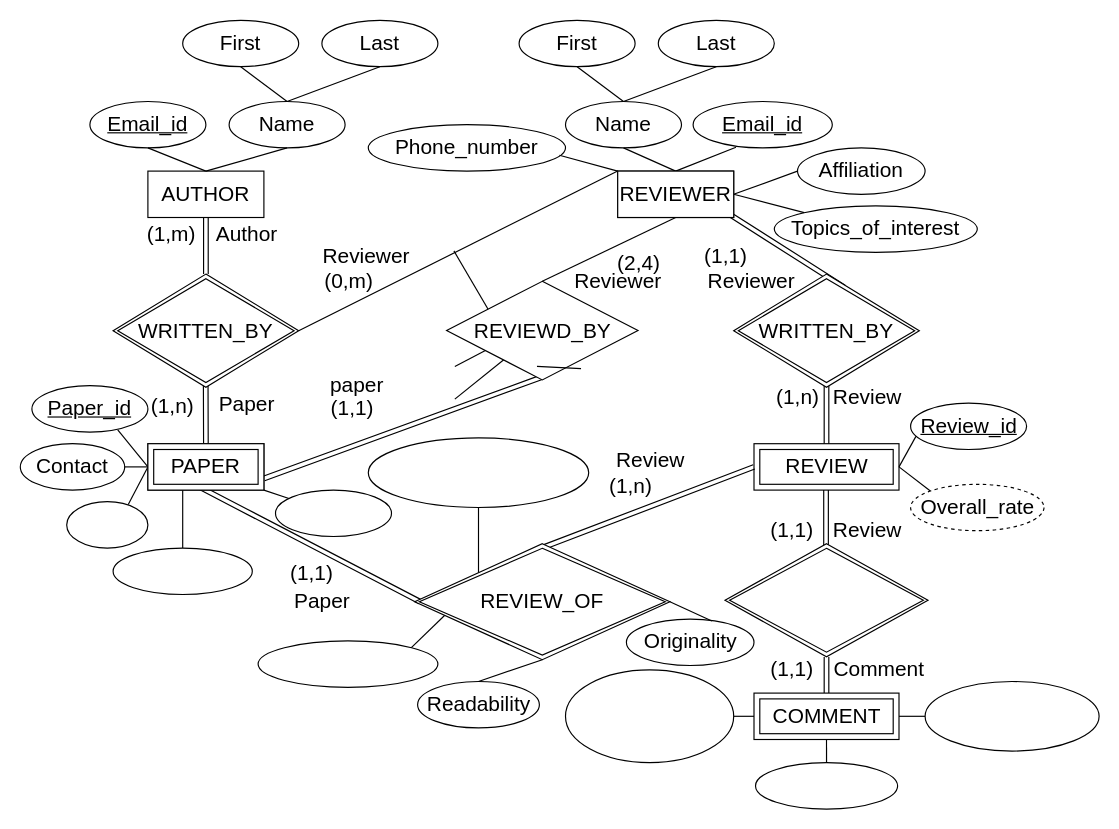
Image size: 1119x829. Some labels were removed from this diagram. Here are the shapes that lost their labels. From the top down, the centre of each, then its label:
At point 478,472: "Relevance_to_ the_conference".
At point 107,524: "Title".
At point 333,512: "Abstract".
At point 182,570: "Name_of_file".
At point 826,600: "COMMENT_IN".
At point 347,663: "Technical_merit".
At point 649,716: "Review_ committee_only".
At point 1011,715: "Feedback_to_ the_author(s)".
At point 826,785: "Comment_id".
